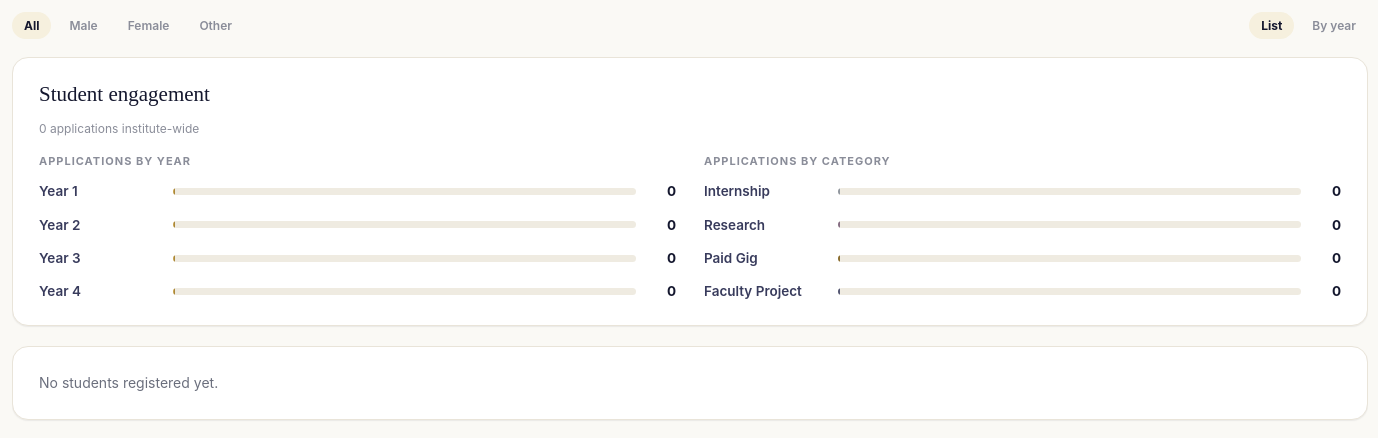
Test: StudentsTab › shows an empty state naming the active gender filter when the roster is empty
Click the button "Other" at (216, 26), box [187,12,244,39]
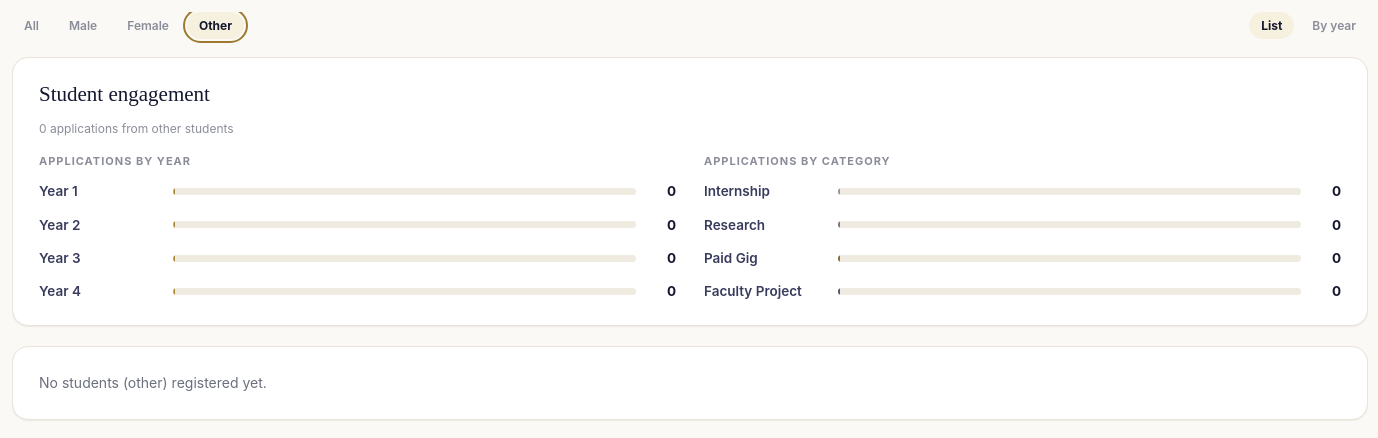
Expected: the text "No students (other) registered yet." is shown, [39,374,267,392]
